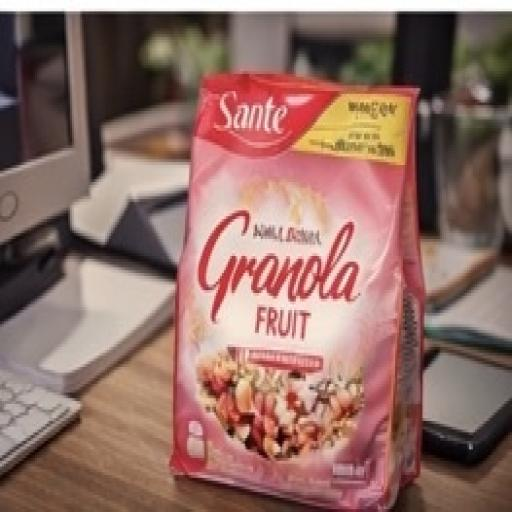granola: (149, 56, 464, 503)
